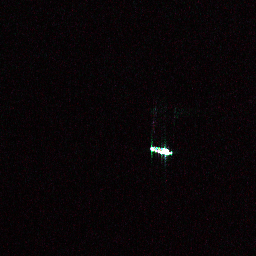ship: (148, 143, 173, 157)
